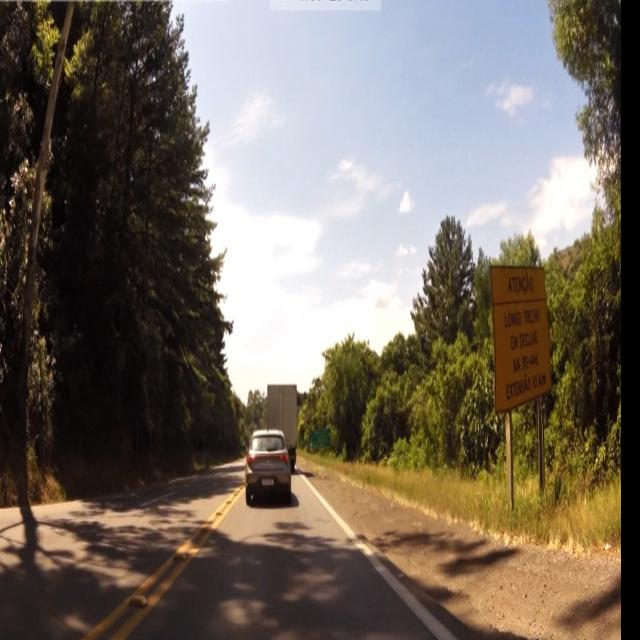ESP-20: (488, 264, 554, 411)
